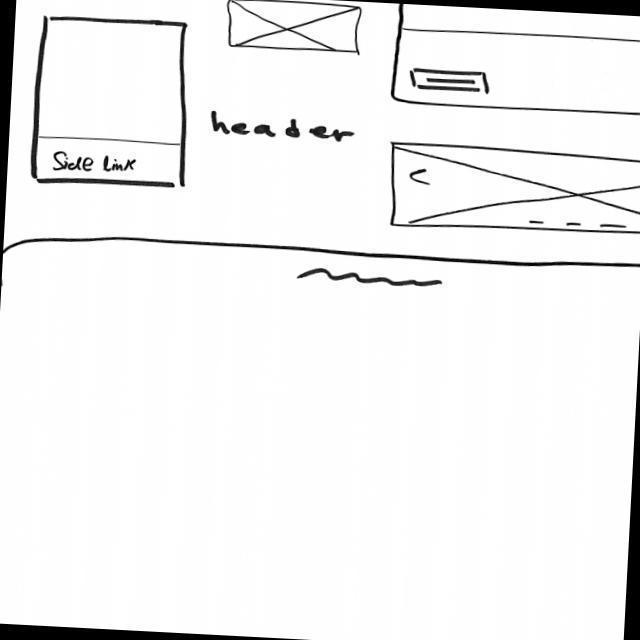container: (31, 15, 195, 190), (391, 4, 640, 119)
icon-button: (409, 67, 494, 98)
image: (386, 141, 640, 239), (223, 1, 364, 57)
label: (204, 112, 360, 146), (51, 149, 141, 176)
text: (300, 266, 446, 292)
